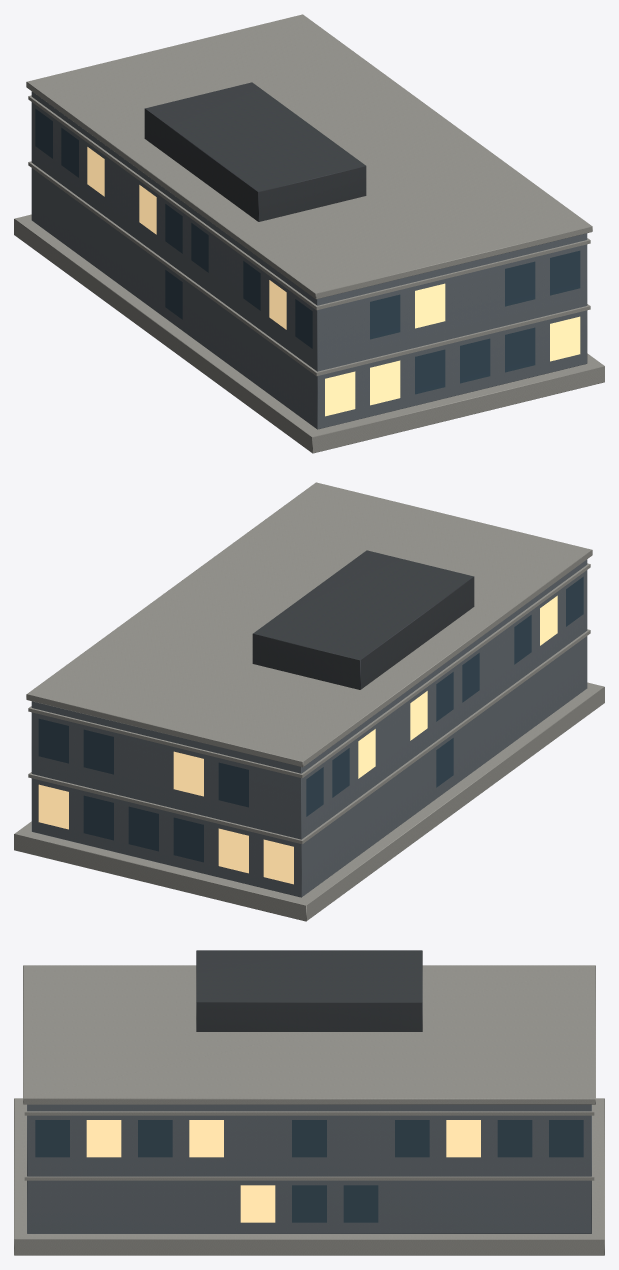
The model's file is marina-pavilion_high.glb.
3 views of the same model, one above another, from view 1: azimuth 30°, elevation 25°; view 2: azimuth 150°, elevation 25°; view 3: azimuth 270°, elevation 25° (orthographic).
Parts seen in each view (by area): view 1: concrete, facade-mineral, dark-steel, glazing, window-emissive-mask; view 2: concrete, facade-mineral, dark-steel, glazing, window-emissive-mask; view 3: concrete, facade-mineral, dark-steel, glazing, window-emissive-mask.
Boxes of the visible parts, left/top/right/bottom form: concrete: left=14, top=14, right=604, bottom=453; facade-mineral: left=31, top=91, right=587, bottom=429; dark-steel: left=144, top=82, right=366, bottom=221; glazing: left=35, top=108, right=580, bottom=394; window-emissive-mask: left=87, top=147, right=580, bottom=416; concrete: left=14, top=482, right=604, bottom=921; facade-mineral: left=31, top=559, right=587, bottom=897; dark-steel: left=252, top=550, right=474, bottom=689; glazing: left=38, top=576, right=583, bottom=862; window-emissive-mask: left=38, top=595, right=557, bottom=884; concrete: left=14, top=965, right=604, bottom=1255; facade-mineral: left=27, top=1104, right=591, bottom=1233; dark-steel: left=196, top=950, right=422, bottom=1031; glazing: left=35, top=1120, right=583, bottom=1222; window-emissive-mask: left=86, top=1120, right=480, bottom=1222.
Bounding box in the file's own units: 13 × 7.85 × 23.
Materials: 5 (3 with a texture image).
